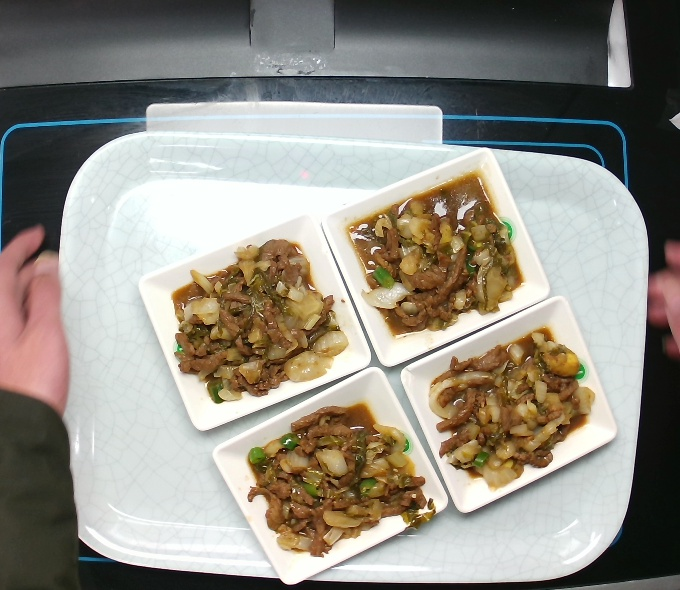wcq-PaoCaiNiuRou: (421, 331, 598, 493), (241, 400, 418, 562), (157, 240, 334, 402), (349, 176, 526, 338)
